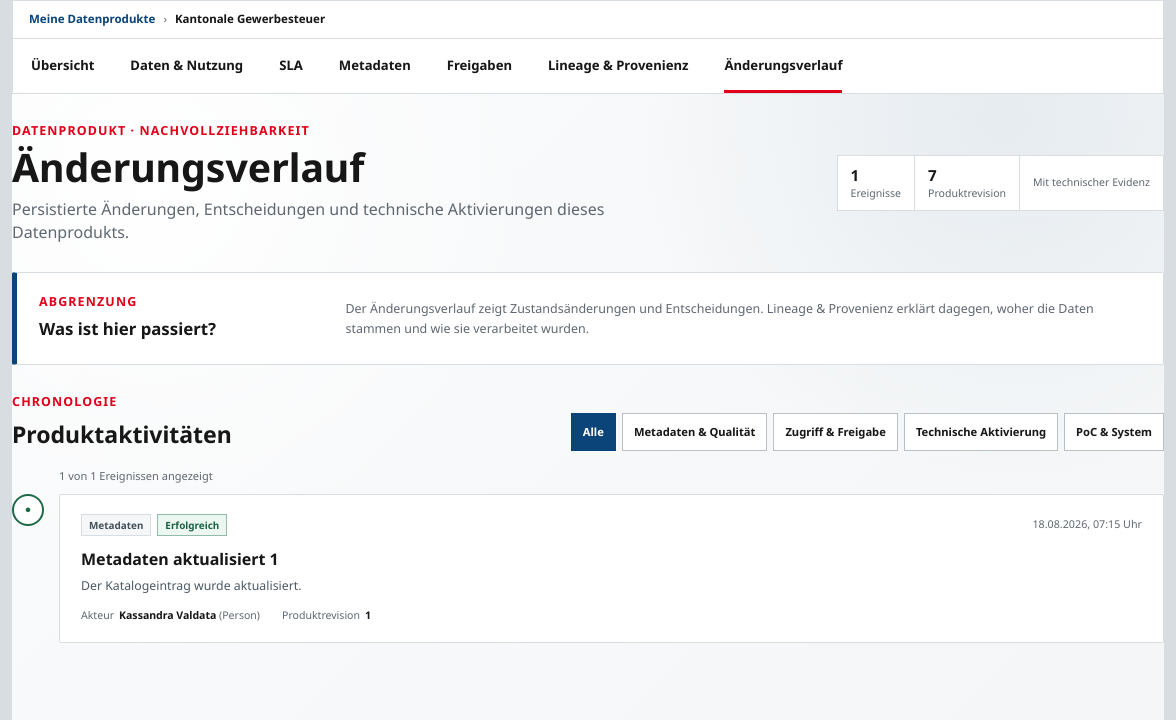
Scenario: ProductActivityComponent › announces loading and distinguishes a filter-empty result
Click the button "Technische Aktivierung".
click(981, 432)  # box [904,413,1058,451]
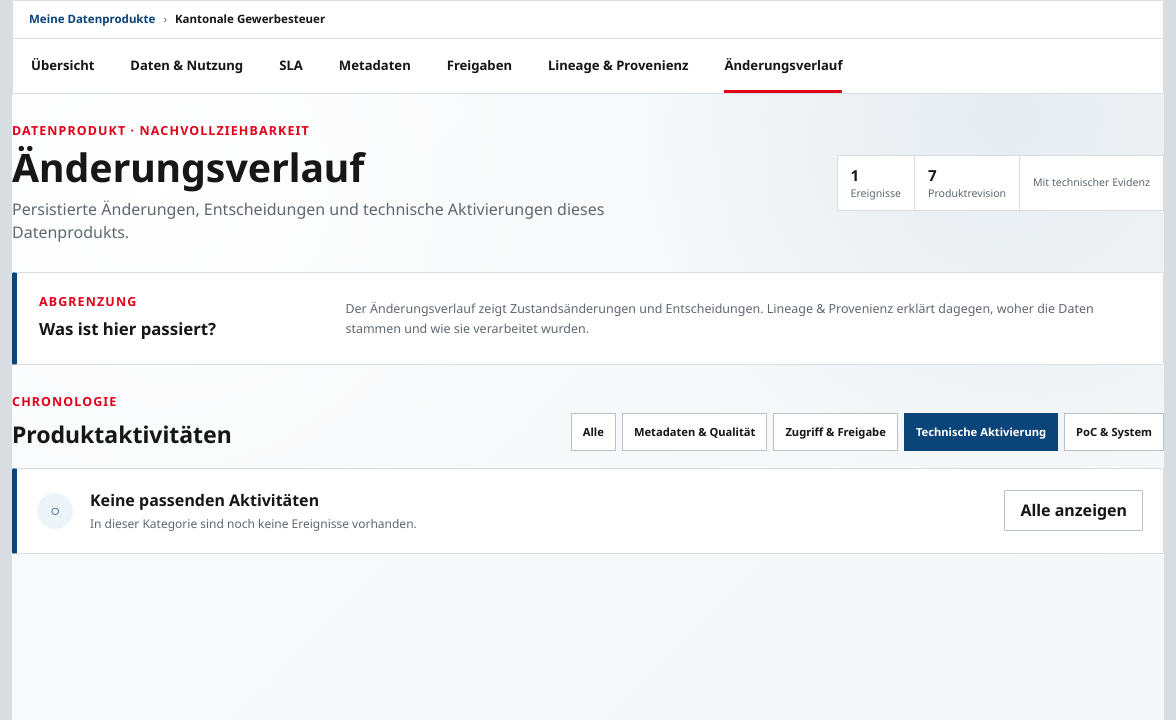
Expected: the text "Keine passenden Aktivitäten" is shown, [90,489,319,511]
